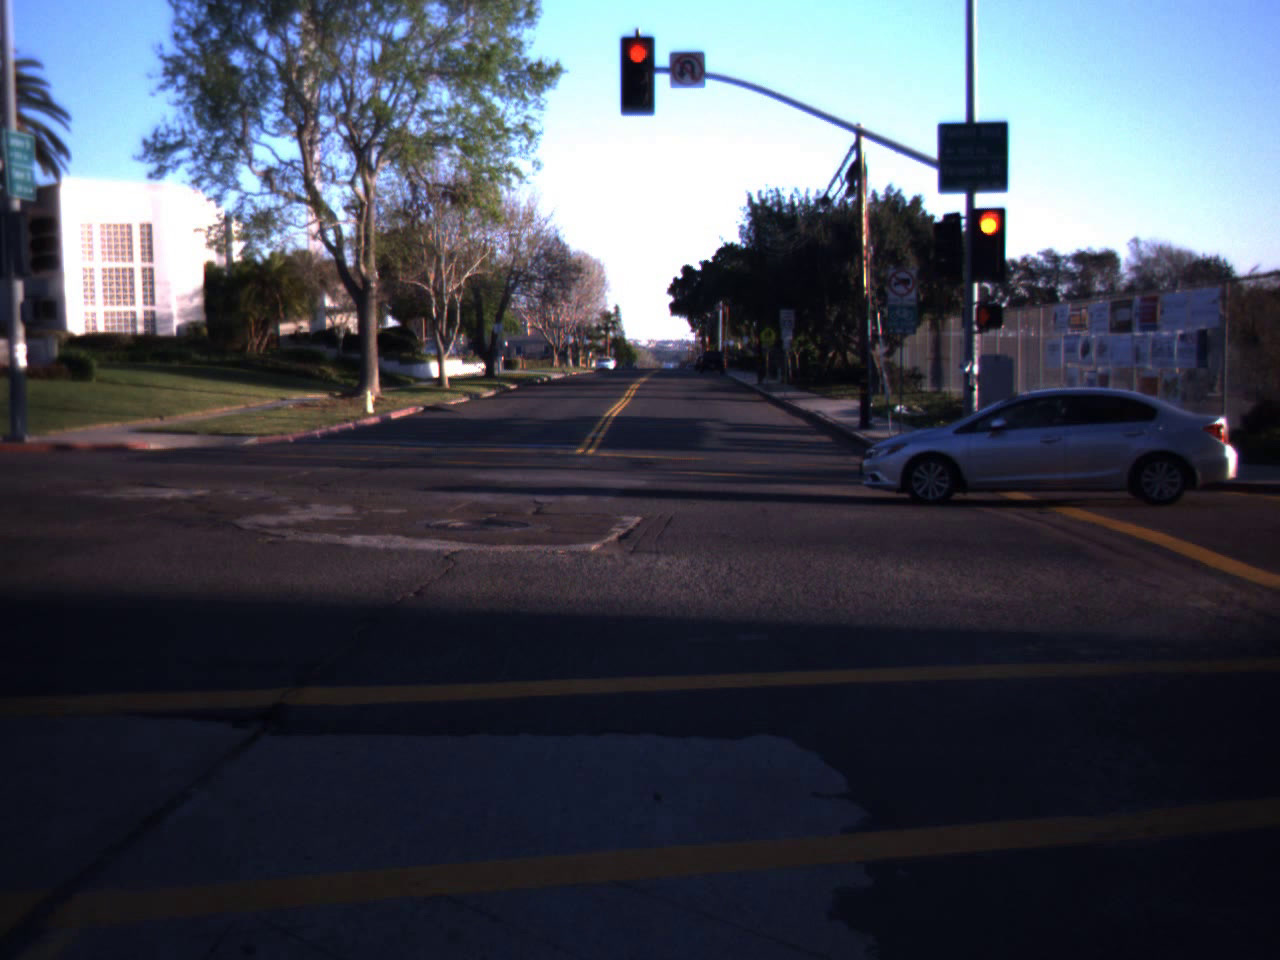stop: (960, 201, 1020, 300), (614, 38, 662, 110)
